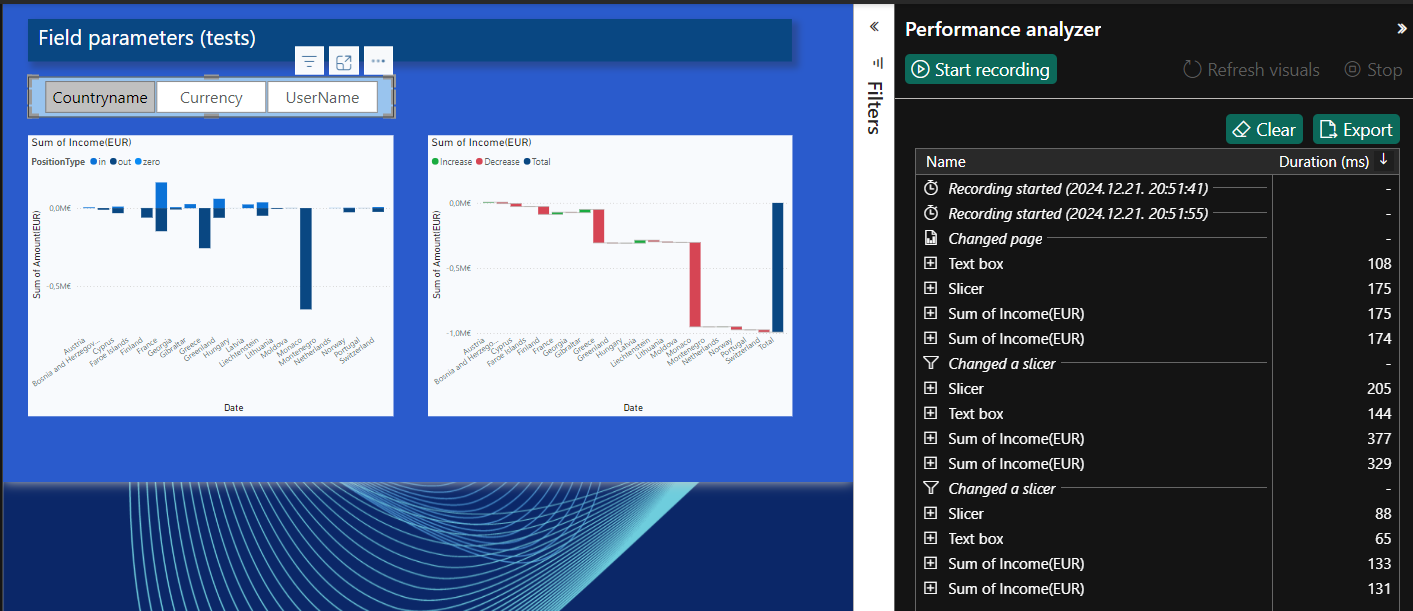

This screenshot's page, from the dashboard's own definition file:
{"tool":"powerbi","page":{"name":"DynIns_Graph","canvas":[1280,720],"ordinal":5},"visuals":[{"type":"columnChart","title":"Sum of Income(EUR) ","fields":{"Category":["DATA.Countryname","DATA.CorrEndDate.Variation.Date Hierarchy.Year"],"Y":["Sum(DATA.Amount(EUR))"],"Series":["DATA.IncomeType"]},"box":[37.5,224.2,550,422.9],"z":0},{"type":"waterfallChart","title":"Sum of Income(EUR)","fields":{"Category":["DATA.Countryname","DATA.CorrEndDate.Variation.Date Hierarchy.Year"],"Y":["Sum(DATA.Amount(EUR))"]},"box":[638.9,224.2,548.6,422.9],"z":1000},{"type":"textbox","box":[37,49.9,1150.8,64],"z":2000},{"type":"slicer","fields":{"Values":["Parameter_Dim2.Parameter_Dim2"]},"box":[39.6,137.4,549.6,60.2],"z":3000}]}

Visuals, with their boxes on the page's 1280x720 design canvas (x1, y1, x2, y2). These are canvas units, not pixel positions in the 1413x611 screenshot, which may show the page scaled, cropped or inside an application window:
"Sum of Income(EUR) " columnChart: locate(38, 224, 588, 647)
"Sum of Income(EUR)" waterfallChart: locate(639, 224, 1188, 647)
textbox: locate(37, 50, 1188, 114)
slicer - Parameter_Dim2.Parameter_Dim2: locate(40, 137, 589, 198)
